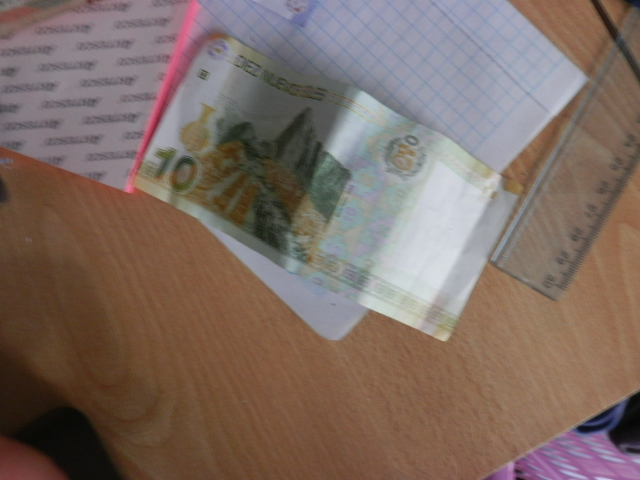B10: (122, 44, 520, 354)
